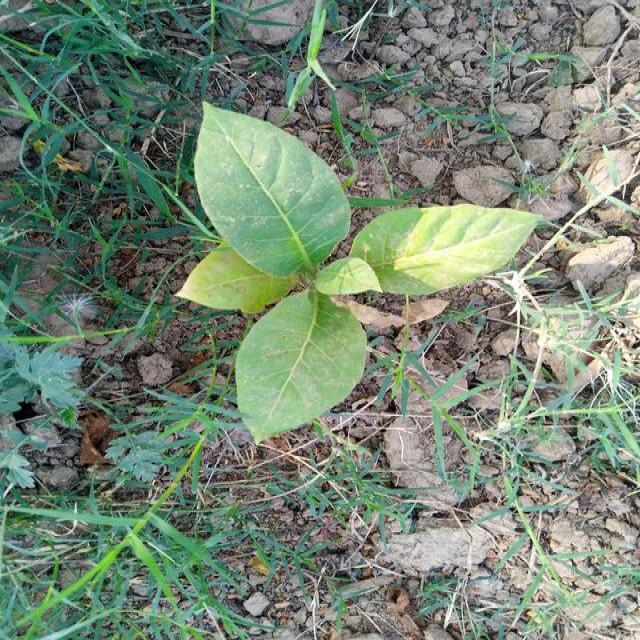crop: (180, 102, 524, 429)
